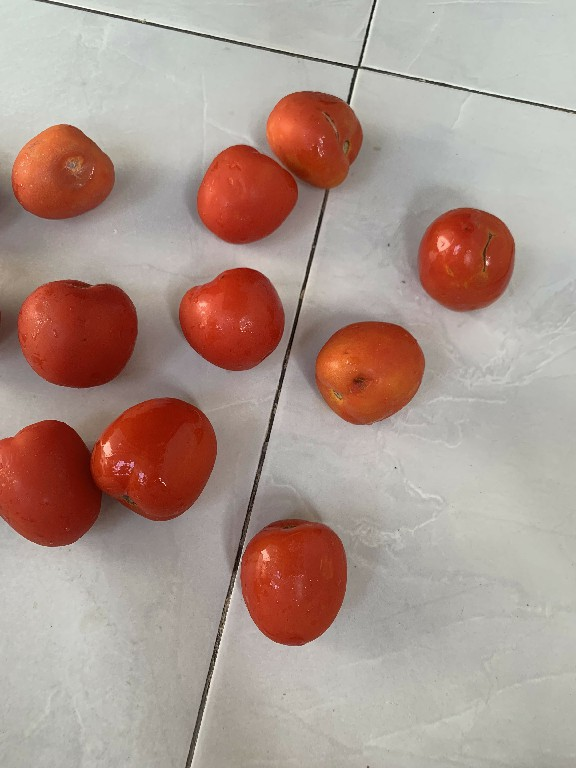NG: (412, 193, 520, 314), (310, 318, 429, 424), (6, 116, 115, 227), (257, 86, 370, 193)
OK: (90, 390, 223, 524), (237, 518, 352, 655), (14, 270, 142, 390), (0, 411, 100, 549), (173, 265, 288, 378), (189, 139, 298, 248)
